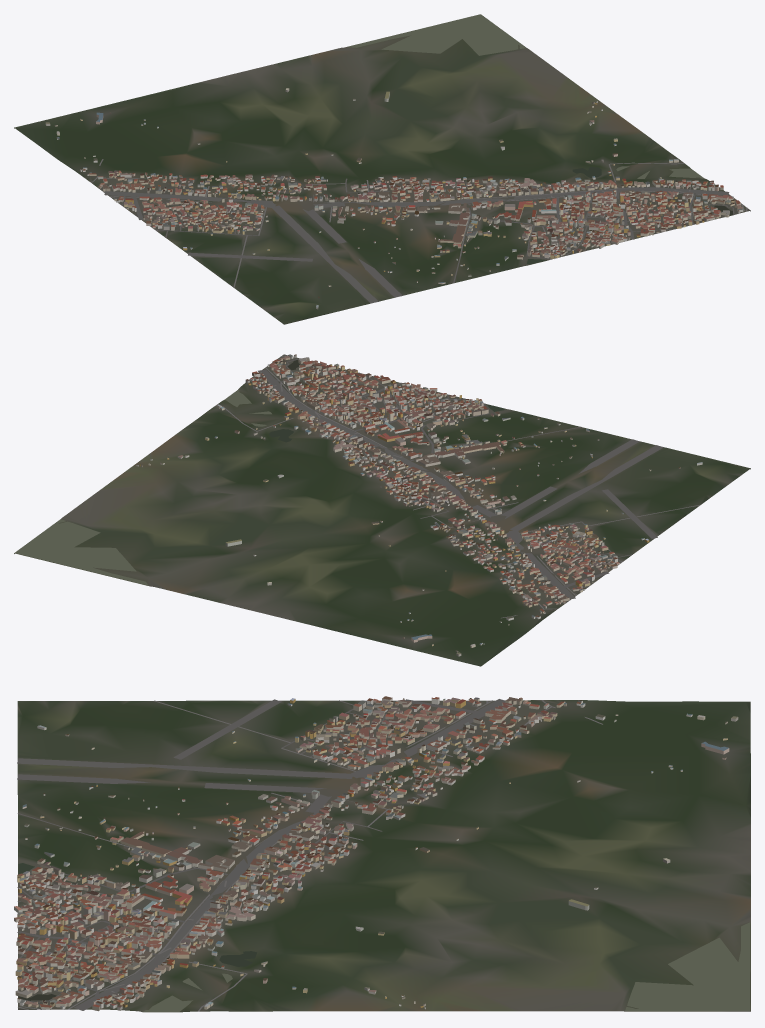
The picture shows the model from 3 angles, top to bottom: view 1: azimuth 30°, elevation 25°; view 2: azimuth 150°, elevation 25°; view 3: azimuth 270°, elevation 25°; orthographic projection. The views are drawn at different scales.
Visible parts, largest first — view 1: ground, buildings, roads, water; view 2: ground, buildings, roads, water; view 3: ground, buildings, roads, water.
Boxes of the visible parts, box(x1,y1,x2,y2) form: ground: box(14, 16, 750, 324); buildings: box(45, 88, 743, 309); roads: box(90, 159, 747, 303); water: box(347, 14, 733, 264); ground: box(14, 354, 750, 666); buildings: box(136, 354, 702, 656); roads: box(217, 355, 700, 618); water: box(15, 360, 504, 585); ground: box(17, 700, 750, 1012); buildings: box(14, 696, 738, 1011); roads: box(17, 699, 602, 1011); water: box(18, 863, 750, 1011).
Bounding box in the file's own units: 1414 × 29.61 × 1409.
